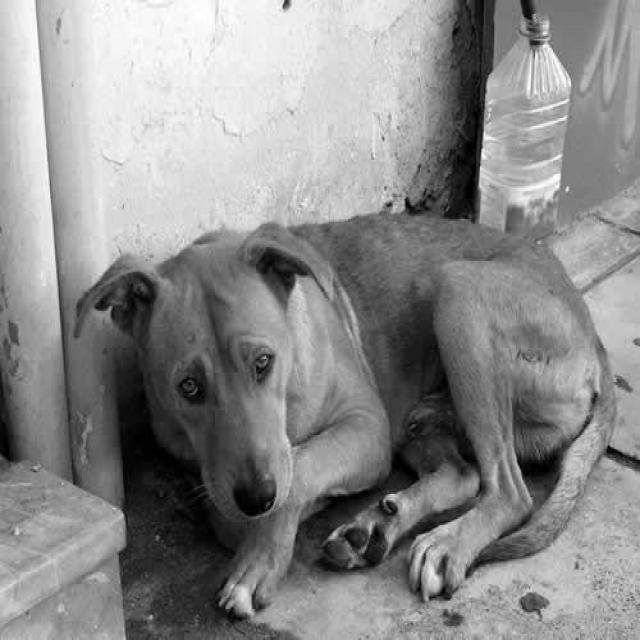laying down: (68, 200, 623, 626)
